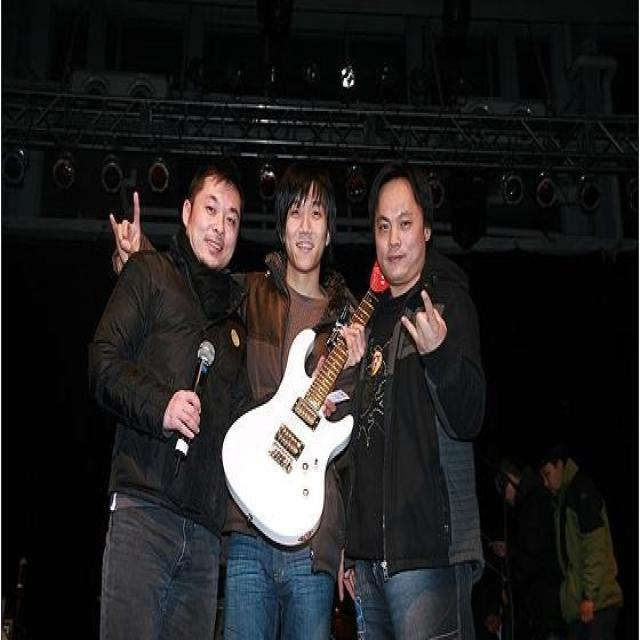guitar: (220, 256, 405, 554)
